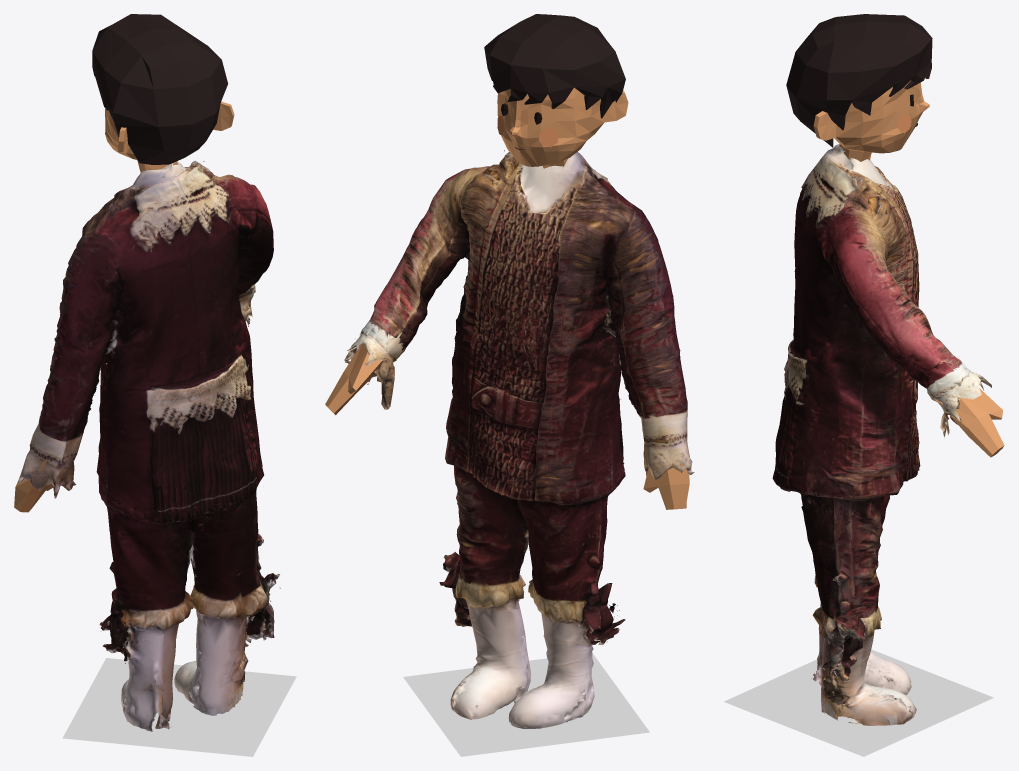
The model's file is niño.glb.
3 views of the same model, side by side, from view 1: azimuth 30°, elevation 25°; view 2: azimuth 150°, elevation 25°; view 3: azimuth 270°, elevation 25° (orthographic). The views are drawn at different scales.
Parts seen in each view (by area): view 1: Object.007_Object.018, Plane; view 2: Object.007_Object.018, Plane; view 3: Object.007_Object.018, Plane.
Part boxes in pixels (<box>): Object.007_Object.018: <box>14,14,280,731</box>; Plane: <box>63,658,296,756</box>; Object.007_Object.018: <box>325,14,694,728</box>; Plane: <box>403,653,649,756</box>; Object.007_Object.018: <box>772,14,1004,725</box>; Plane: <box>724,649,993,756</box>.
Bounding box in the file's own units: 1.13 × 2.56 × 0.9531.
4 materials, 4 textured.
